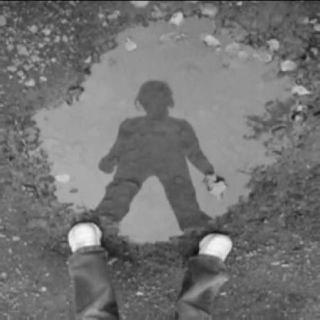other: (115, 8, 242, 74)
